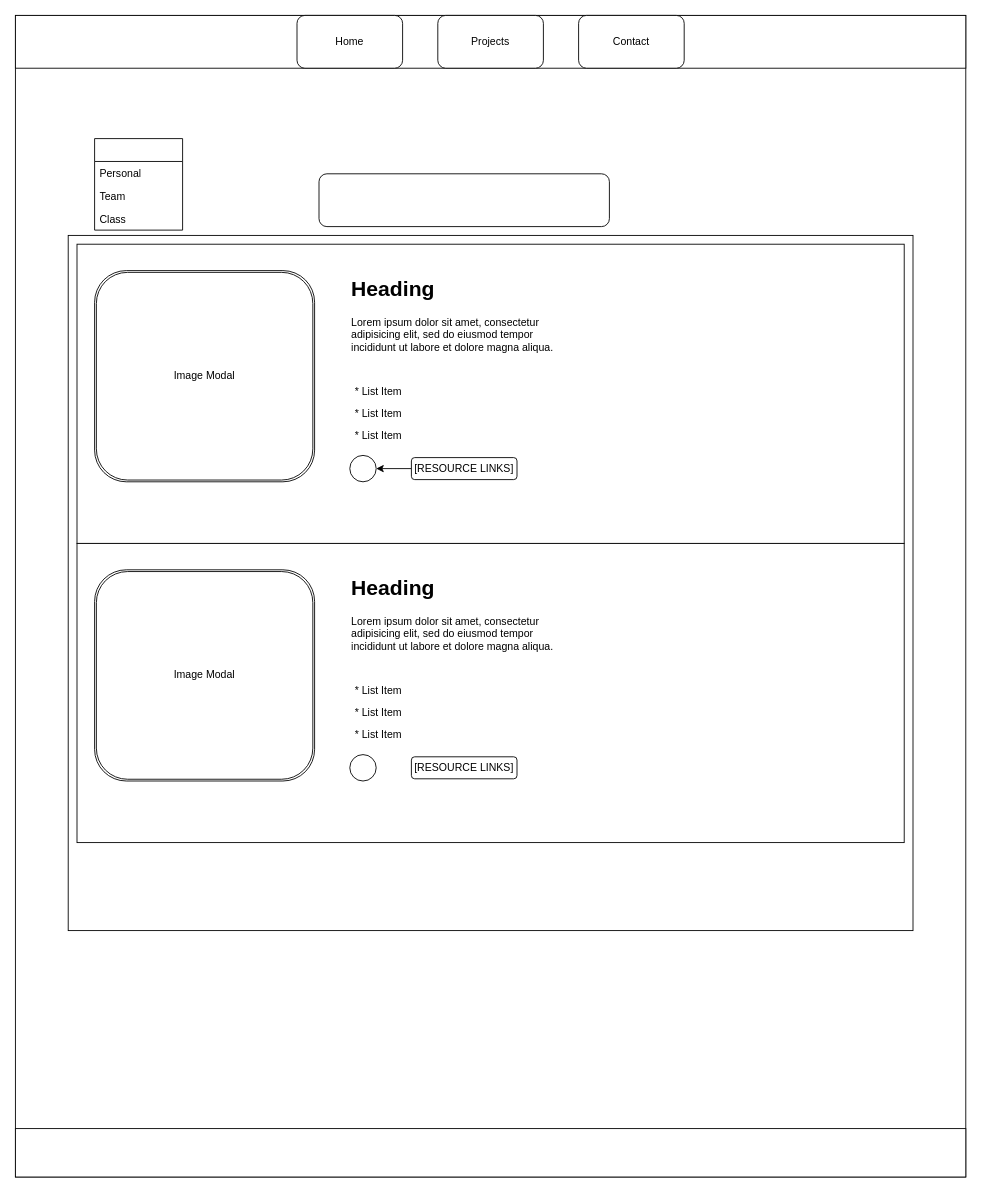
This 981x1192 diagram has some shape labels left out. Each missing label, with the box of its shape:
Drop-Down: (94, 138, 183, 230)
Footer: (15, 1128, 966, 1177)
H1 Filter Title: (318, 173, 609, 227)
